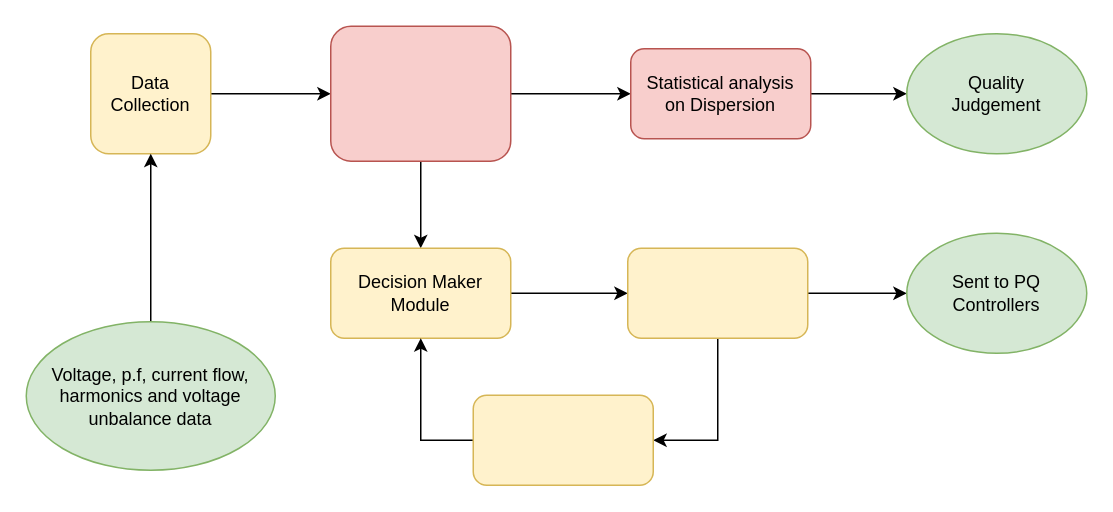
This 1113x512 diagram has some shape labels left out. The shapes that lost their labels are listed below. From the top down, each one's centre as x and y in pixels, then its label:
the point at 420,93: Data Transmission using fiber optic or mobile telecommunication
the point at 717,292: Forcasting or Prediction
the point at 562,439: Gradient Descent
